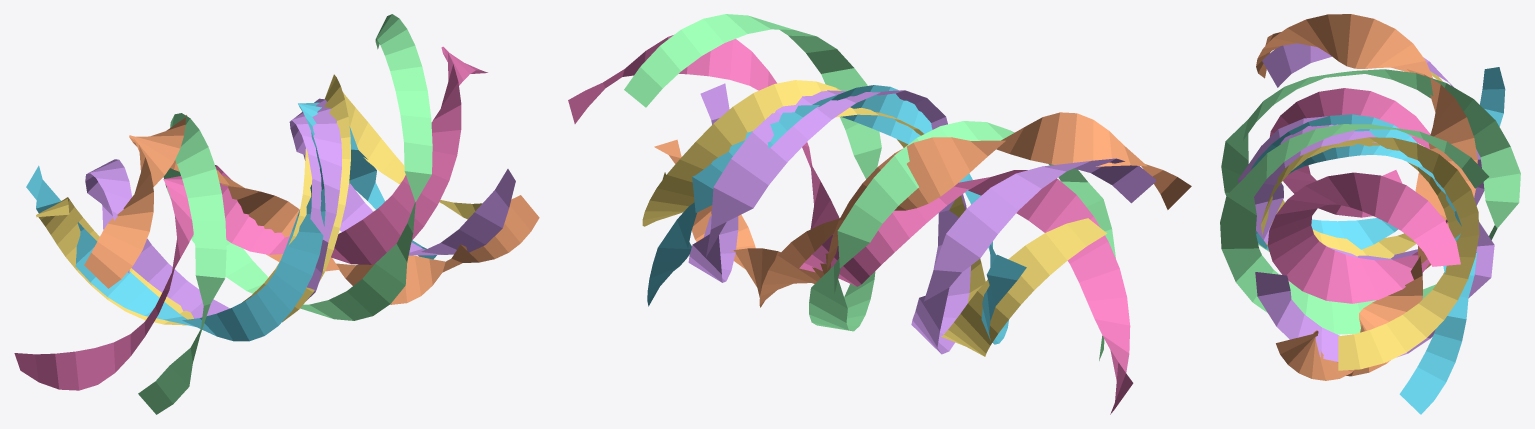
File: CelebrationRibbonMeshSet.fbx
The picture shows the model from 3 angles, left to right: view 1: azimuth 30°, elevation 25°; view 2: azimuth 150°, elevation 25°; view 3: azimuth 270°, elevation 25°; orthographic projection. The views are drawn at different scales.
Parts seen in each view (by area): view 1: Ribbon_Spiral_Green, Ribbon_Swoop_Rose, Ribbon_Flare_Orange, Ribbon_Twist_Violet, Ribbon_Curl_Cyan, Ribbon_Curl_Gold; view 2: Ribbon_Twist_Violet, Ribbon_Spiral_Green, Ribbon_Swoop_Rose, Ribbon_Flare_Orange, Ribbon_Curl_Gold, Ribbon_Curl_Cyan; view 3: Ribbon_Swoop_Rose, Ribbon_Spiral_Green, Ribbon_Flare_Orange, Ribbon_Curl_Gold, Ribbon_Curl_Cyan, Ribbon_Twist_Violet.
Part boxes in pixels (box(x1,y1,x2,y2)): Ribbon_Spiral_Green: box(138, 14, 432, 414); Ribbon_Swoop_Rose: box(14, 46, 487, 390); Ribbon_Flare_Orange: box(84, 115, 539, 304); Ribbon_Twist_Violet: box(85, 98, 515, 318); Ribbon_Curl_Cyan: box(26, 102, 436, 341); Ribbon_Curl_Gold: box(36, 74, 482, 325); Ribbon_Twist_Violet: box(688, 83, 1156, 354); Ribbon_Spiral_Green: box(624, 14, 1115, 360); Ribbon_Swoop_Rose: box(568, 35, 1133, 414); Ribbon_Flare_Orange: box(654, 112, 1191, 307); Ribbon_Curl_Gold: box(642, 80, 1107, 356); Ribbon_Curl_Cyan: box(647, 85, 1026, 344); Ribbon_Swoop_Rose: box(1267, 88, 1460, 303); Ribbon_Spiral_Green: box(1220, 69, 1520, 334); Ribbon_Flare_Orange: box(1256, 14, 1477, 380); Ribbon_Curl_Gold: box(1261, 71, 1479, 370); Ribbon_Curl_Cyan: box(1251, 67, 1505, 414); Ribbon_Twist_Violet: box(1238, 43, 1494, 361).
Size of the model in its own units: 129 by 68.7 by 65.27.
